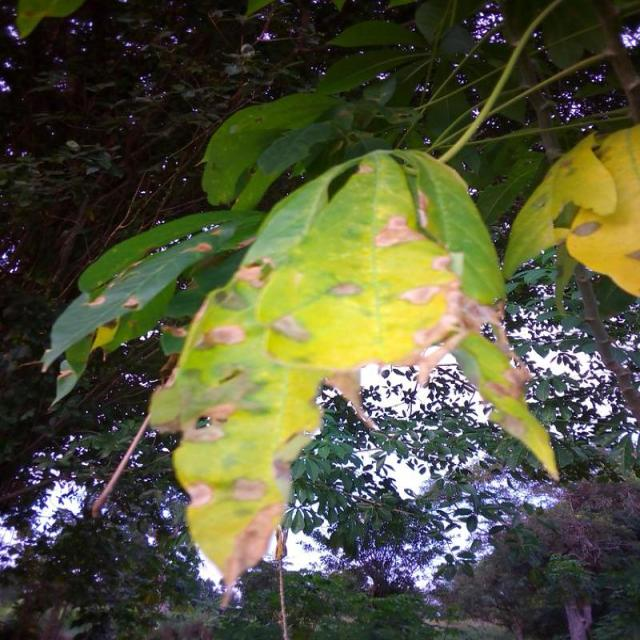cassava leaf: (147, 146, 558, 608), (503, 120, 640, 310)
